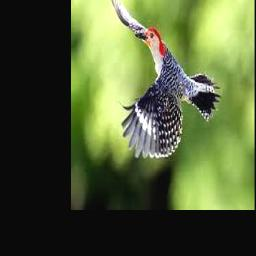Woodpecker: (110, 0, 220, 158)
